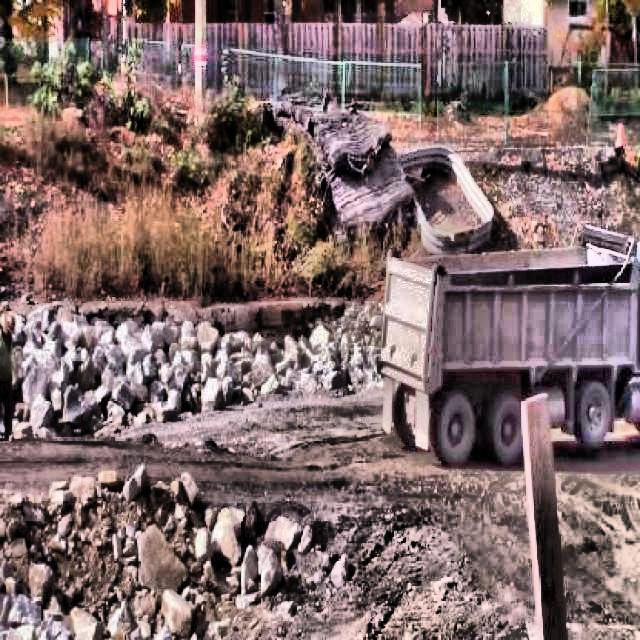dump_truck: (378, 217, 640, 466)
